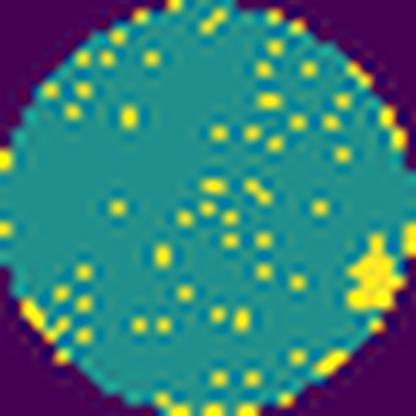Edge-Loc: (343, 232, 406, 314)
